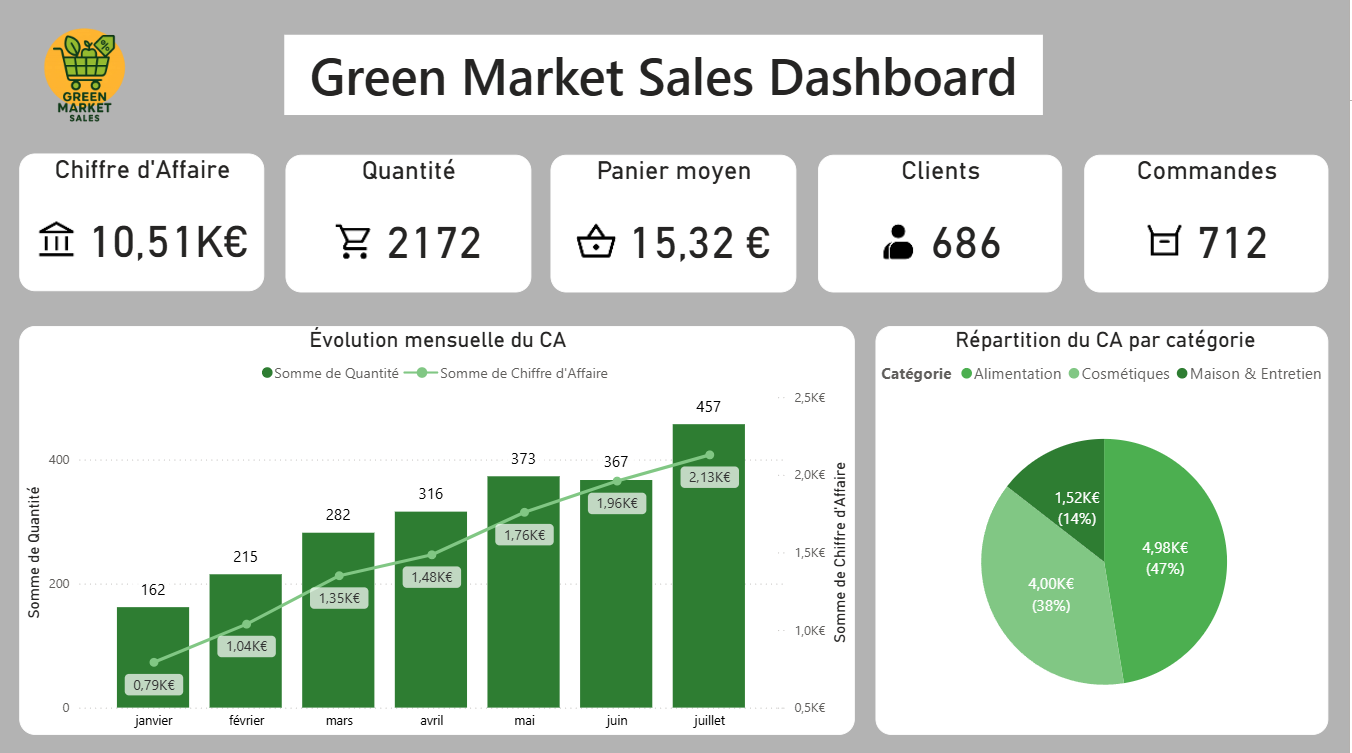

What the dashboard file says about the page in this screenshot:
{"tool":"powerbi","page":{"name":"📊 Vue d’ensemble des ventes","canvas":[1280,720],"ordinal":0},"visuals":[{"type":"cardVisual","title":"Chiffre d''Affaires","fields":{"Data":["Table_Mesures.Revenue"]},"box":[50.5,81.4,250,105.7],"z":0},{"type":"cardVisual","title":"Quantité","fields":{"Data":["Sum(ventes_journalieres.Quantité)"]},"box":[351.9,81.4,250,105.7],"z":1000},{"type":"cardVisual","title":"Panier moyen","fields":{"Data":["Table_Mesures.Panier_moyen"]},"box":[656.2,81.4,251.4,105.7],"z":2000},{"type":"cardVisual","title":"Commandes","fields":{"Data":["Count(ventes_journalieres.Order ID)"]},"box":[971.9,84.3,250,102.9],"z":3000},{"type":"lineChart","title":"Evolution du chiffre d''affaires","fields":{"Category":["DateTable.Date"],"Y":["Table_Mesures.Revenue"]},"box":[40,208.6,751.4,261.4],"z":4000},{"type":"donutChart","title":"Répartition du CA par catégorie","fields":{"Category":["ventes_journalieres.Category"],"Y":["Table_Mesures.Revenue"]},"box":[811.4,207.1,427.1,261.4],"z":5000},{"type":"barChart","title":"Répartition du CA par pays","fields":{"Category":["ventes_journalieres.Pays de livraison"],"Y":["Table_Mesures.Revenue"]},"box":[40,488.6,585.7,231.4],"z":6000},{"type":"lineStackedColumnComboChart","title":"Répartition du CA par mode de paiement","fields":{"Category":["ventes_journalieres.Mode d'achat"],"Y":["Table_Mesures.Revenue"]},"box":[648.6,488.6,590,231.4],"z":7000},{"type":"shape","box":[0,0,1280,61.4],"z":8000},{"type":"textbox","box":[63.3,0,485,61.7],"z":9000},{"type":"pageNavigator","box":[637.1,0,642.9,61.4],"z":10000},{"type":"image","box":[0,0,66.7,61.7],"z":11000}]}

Visuals, with their boxes in screenshot pixels (x1, y1, x2, y2), scaled from the page's 1280x720 canvas onto the 1352x753 screenshot:
"Chiffre d''Affaires" cardVisual: (53,85,317,196)
"Quantité" cardVisual: (372,85,636,196)
"Panier moyen" cardVisual: (693,85,959,196)
"Commandes" cardVisual: (1027,88,1291,196)
"Evolution du chiffre d''affaires" lineChart: (42,218,836,492)
"Répartition du CA par catégorie" donutChart: (857,217,1308,490)
"Répartition du CA par pays" barChart: (42,511,661,752)
"Répartition du CA par mode de paiement" lineStackedColumnComboChart: (685,511,1308,752)
shape: (0,0,1351,64)
textbox: (67,0,579,65)
pageNavigator: (673,0,1351,64)
image: (0,0,70,65)
